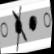correct: (26, 11, 41, 36)
not correct: (6, 4, 32, 53)
